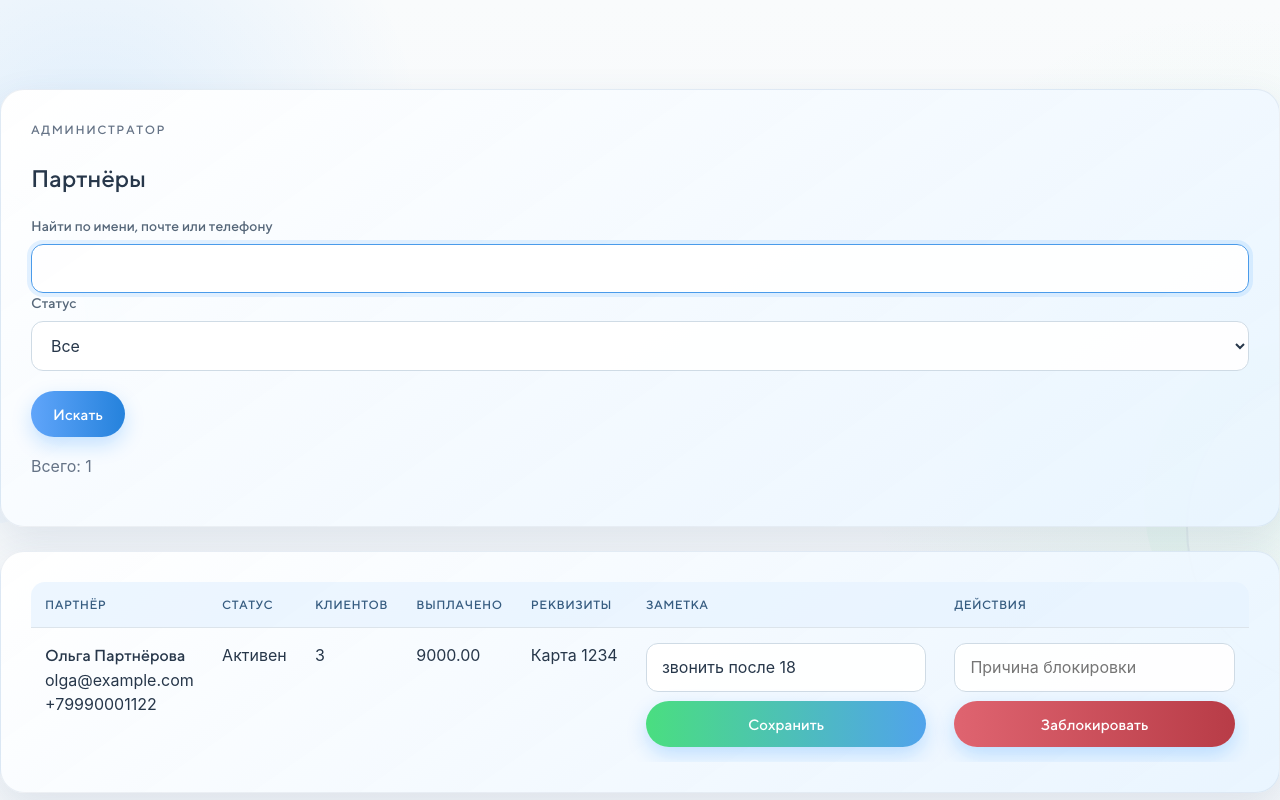
Test: AdminPartnersPage › blocks with a reason, and requires one
The image size is (1280, 800).
In the field named "Причина блокировки:": [1095, 667] box [954, 643, 1235, 692], type "Мошенничество"
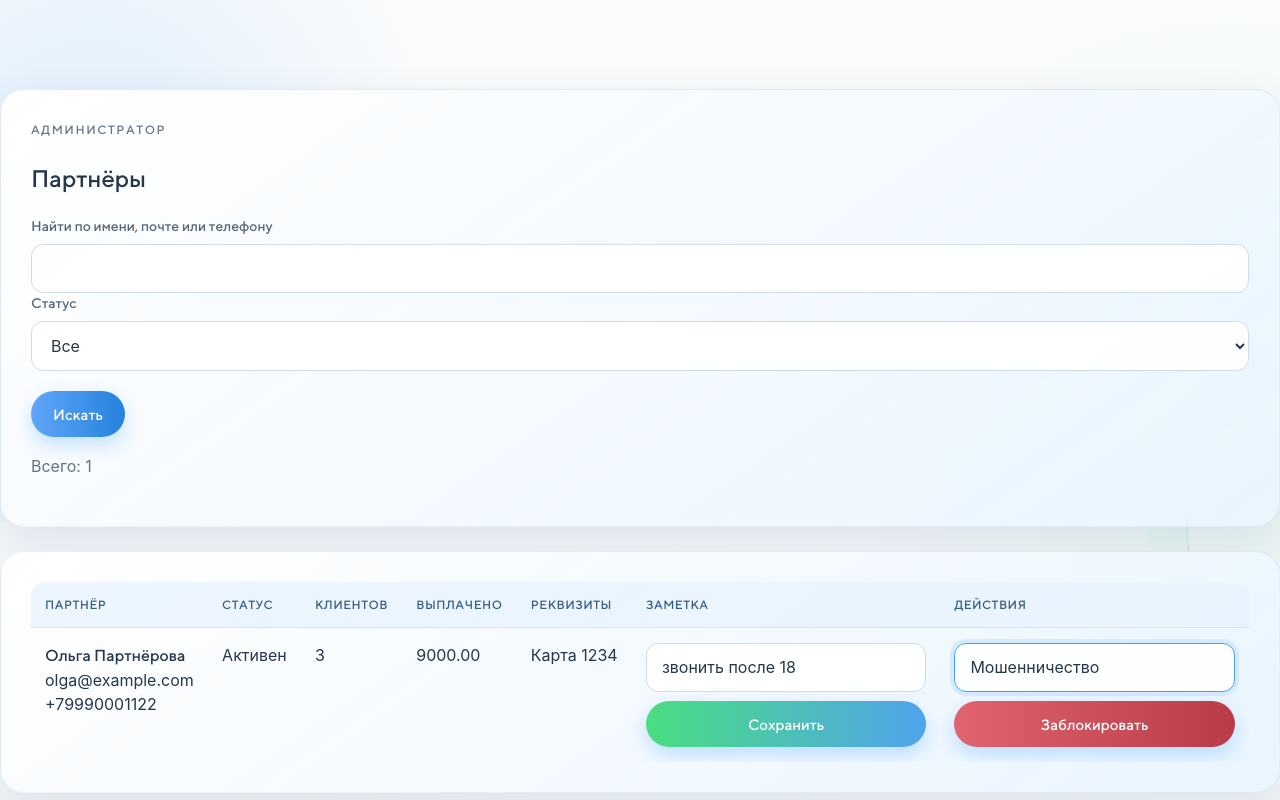
Click the button "Заблокировать": [1095, 724] box [954, 701, 1235, 747]
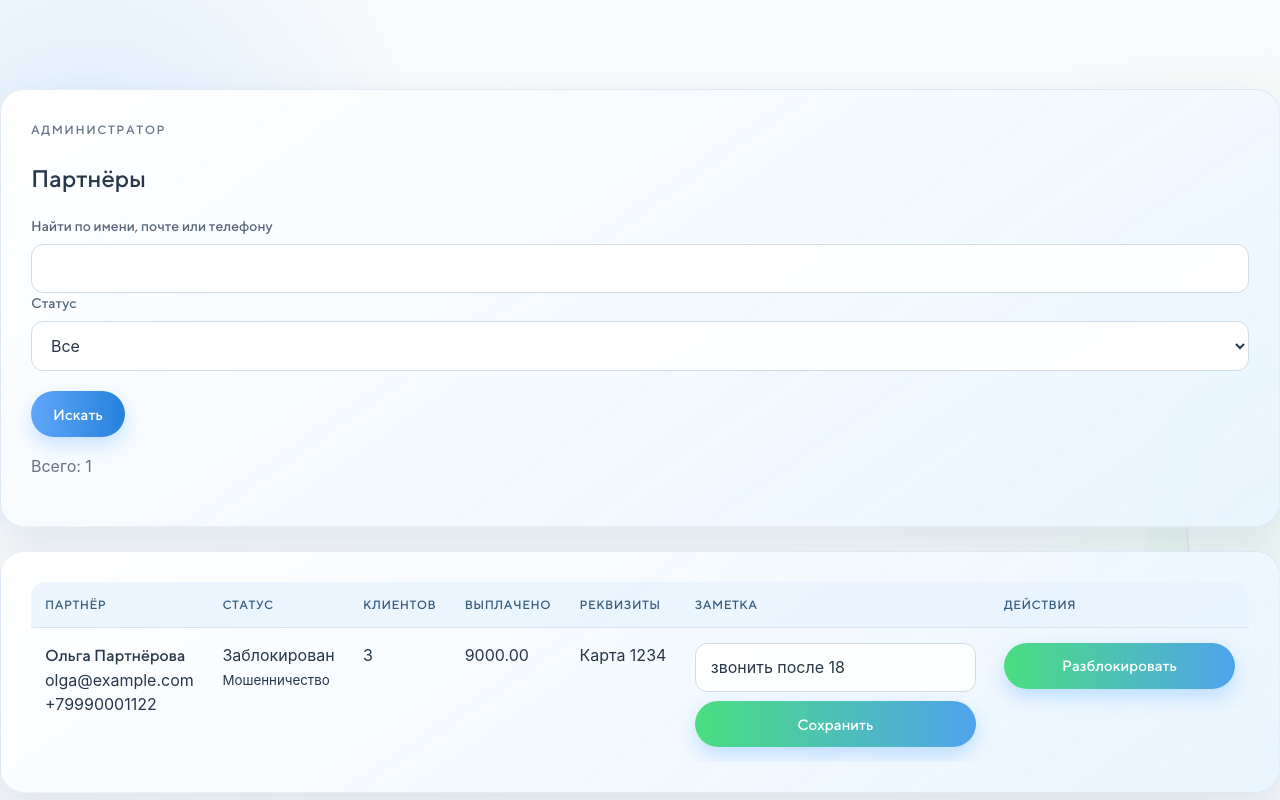
Expected: the text "Заблокирован" is shown, [222, 645, 335, 665]
Expected: the text "Мошенничество" is shown, [222, 672, 330, 688]
Expected: the button "Заблокировать" is gone
